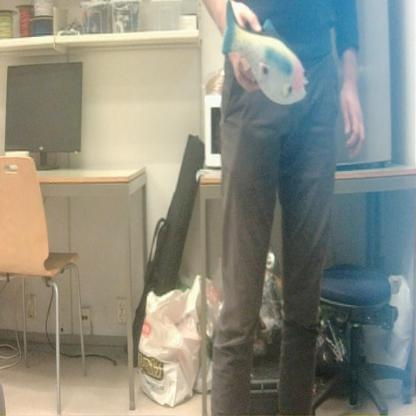rubberfish: (219, 0, 310, 112)
